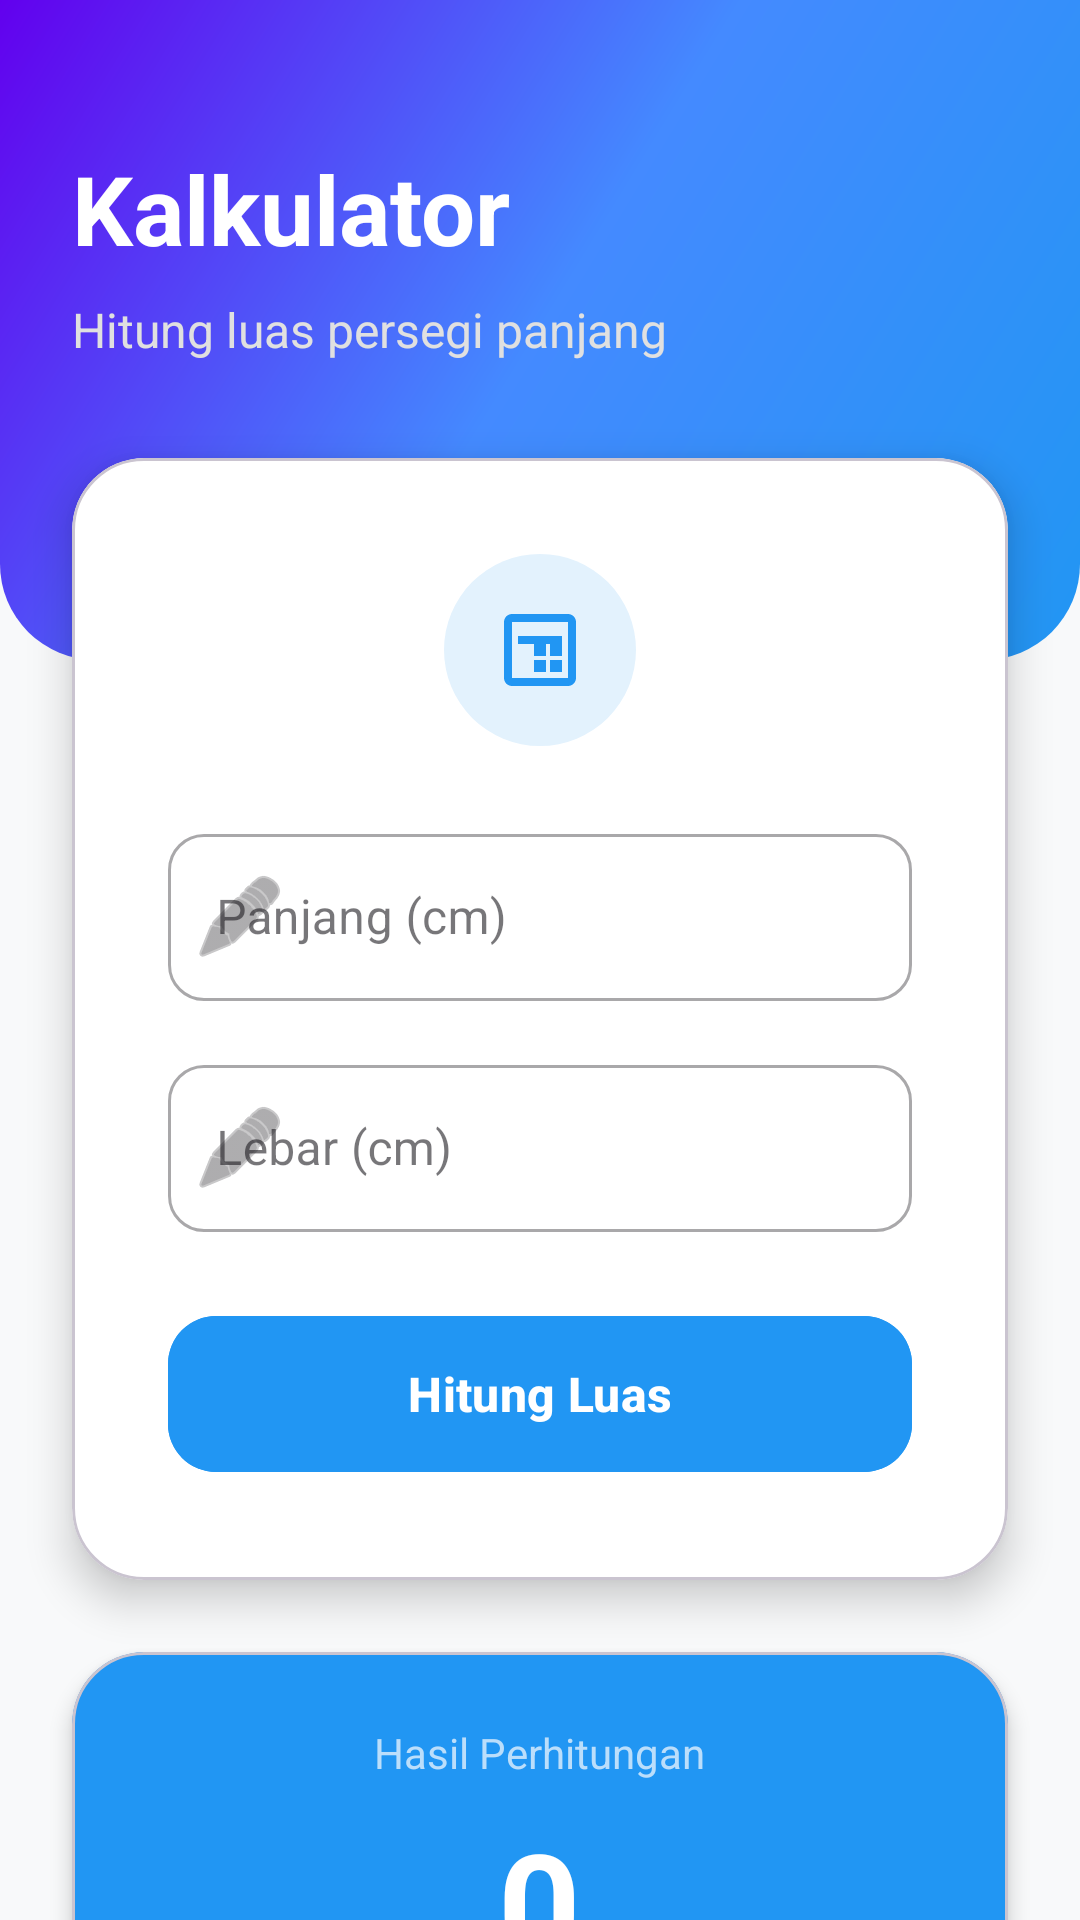

Where to tap for icons on this 1080 × 1920 app screen, as (x=x, y=y):
calculator: (x=540, y=650)
